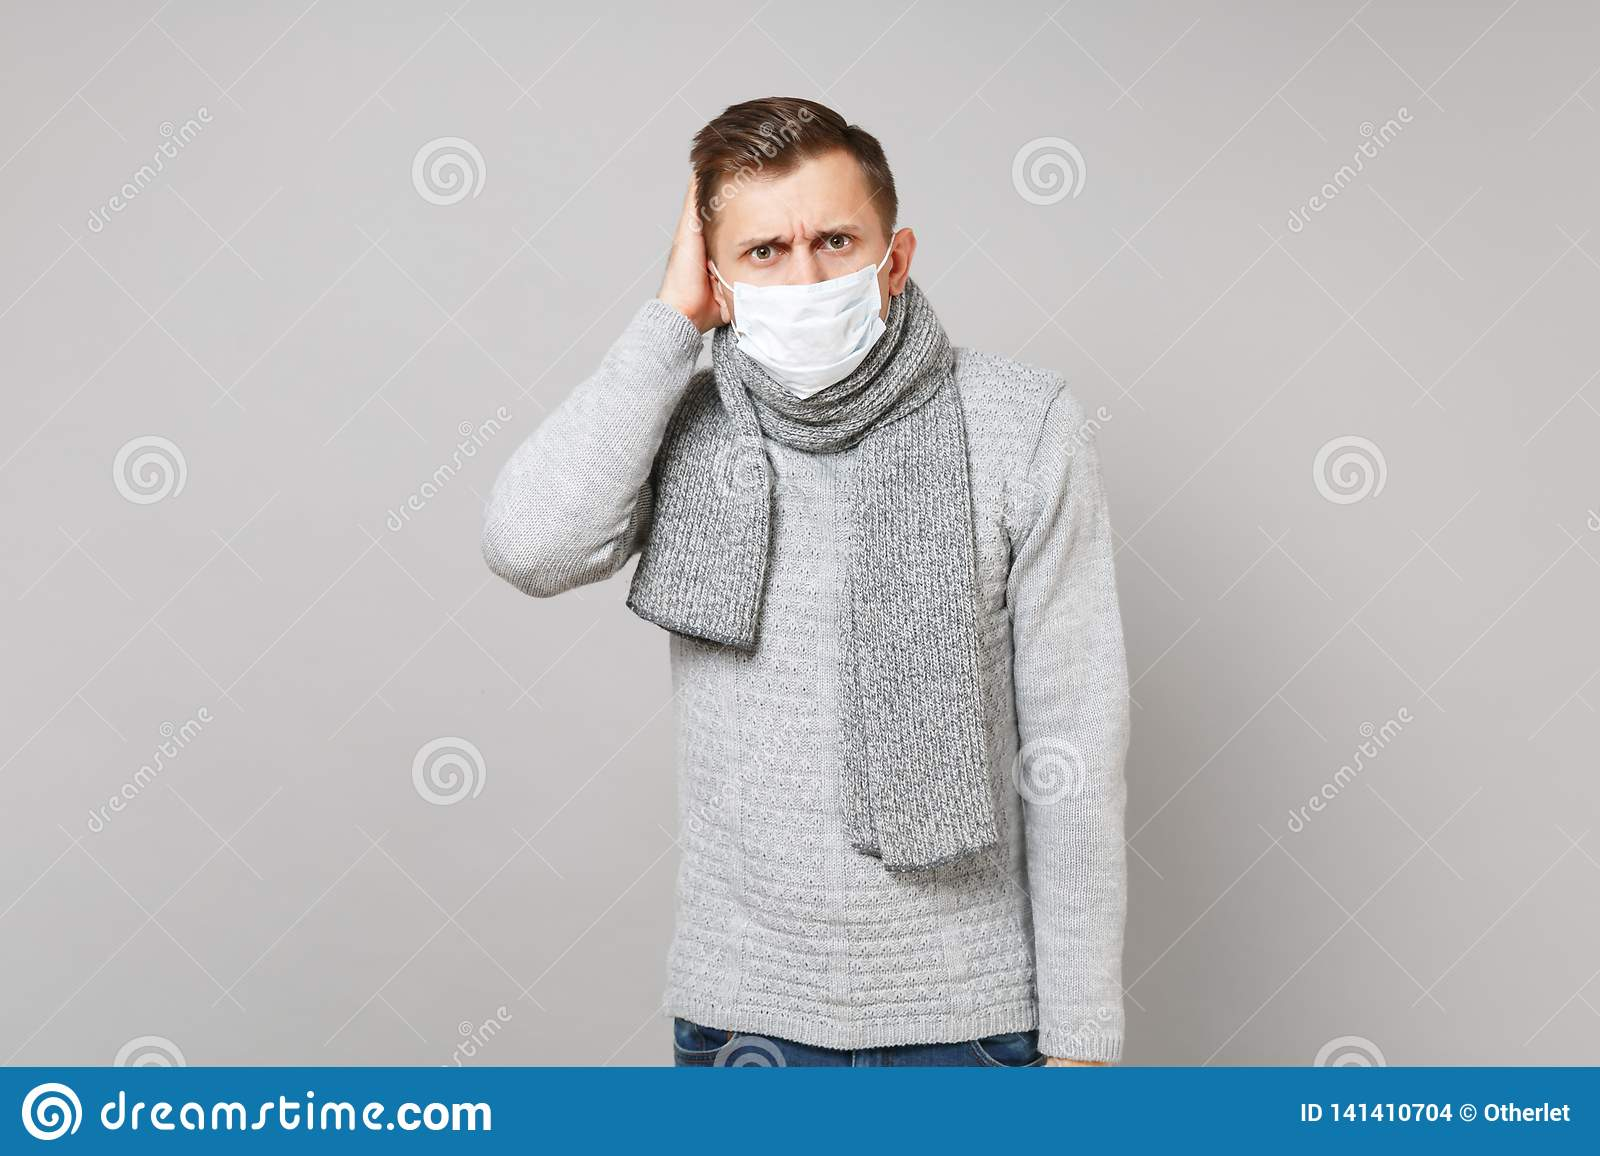mask: (729, 269, 891, 400)
